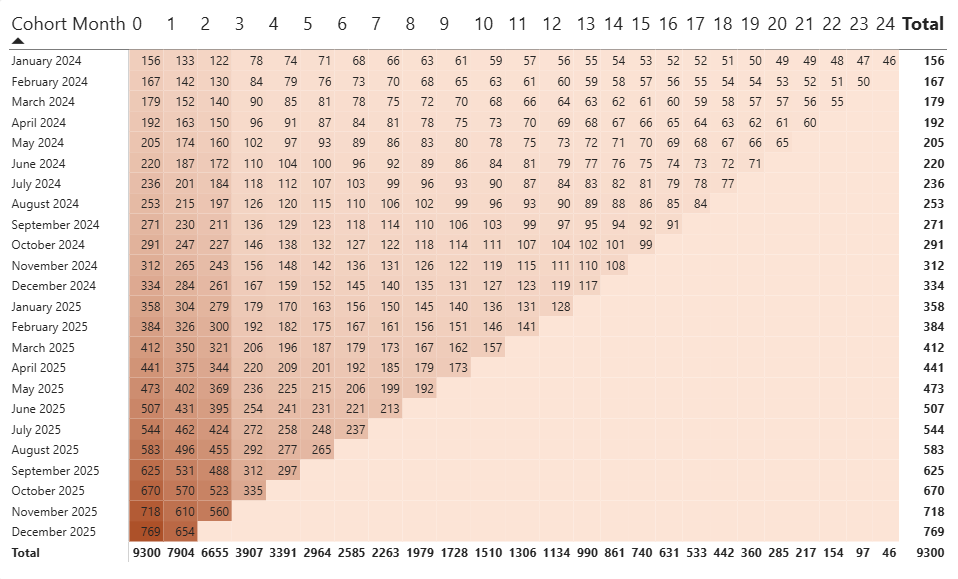

Layout of this report page (visuals, bound fields, positions):
{"tool":"powerbi","page":{"name":"Customer Cohort","canvas":[1920,1080],"ordinal":0},"visuals":[{"type":"pivotTable","fields":{"Columns":["transactions.Months Since First Purchase"],"Rows":["customers.Cohort Month"],"Values":["transactions.Active Customers"]},"box":[10.5,0,1877.8,1022.4],"z":0}]}

Visuals, with their boxes on the page's 1920x1080 design canvas (x1, y1, x2, y2). These are canvas units, not pixel positions in the 958x579 screenshot, which may show the page scaled, cropped or inside an application window:
pivotTable - transactions.Months Since First Purchase x customers.Cohort Month: bbox=(10, 0, 1888, 1022)
